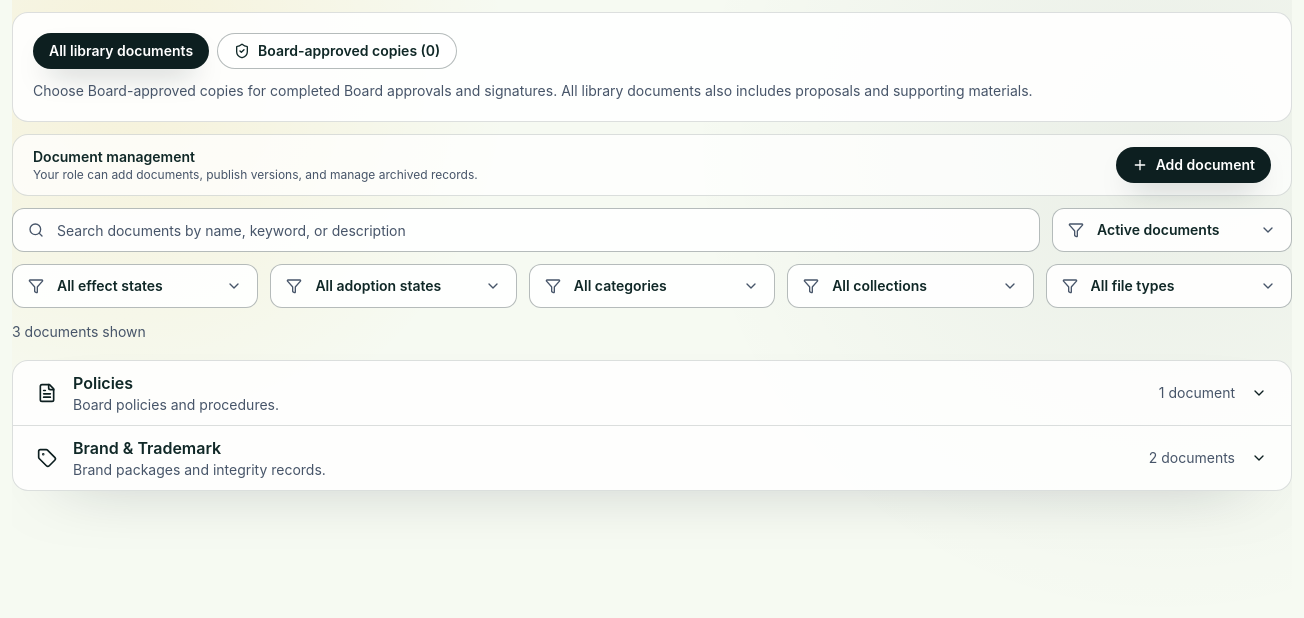
Test: DocumentLibrary › defaults to active records and lets managers select all or archived documents
Expected: the text "3 documents shown" is shown, top-left (12, 322), bottom-right (146, 342)
Select "All documents" in the 1st dropdown named "Filter by document status" at (1172, 230), box top-left (1052, 208), bottom-right (1292, 252)
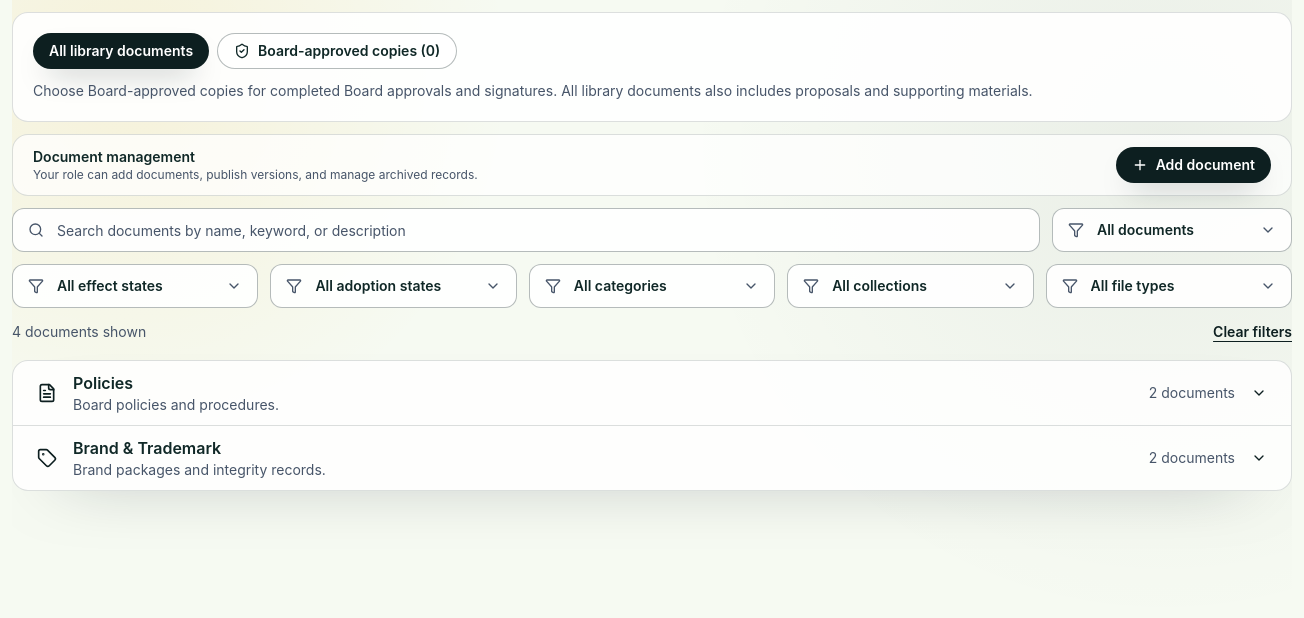
Now the text "4 documents shown" is shown, box top-left (12, 322), bottom-right (146, 342)
Select "Policies" in the 4th dropdown named "Filter by category" at (652, 286), box top-left (529, 264), bottom-right (775, 308)
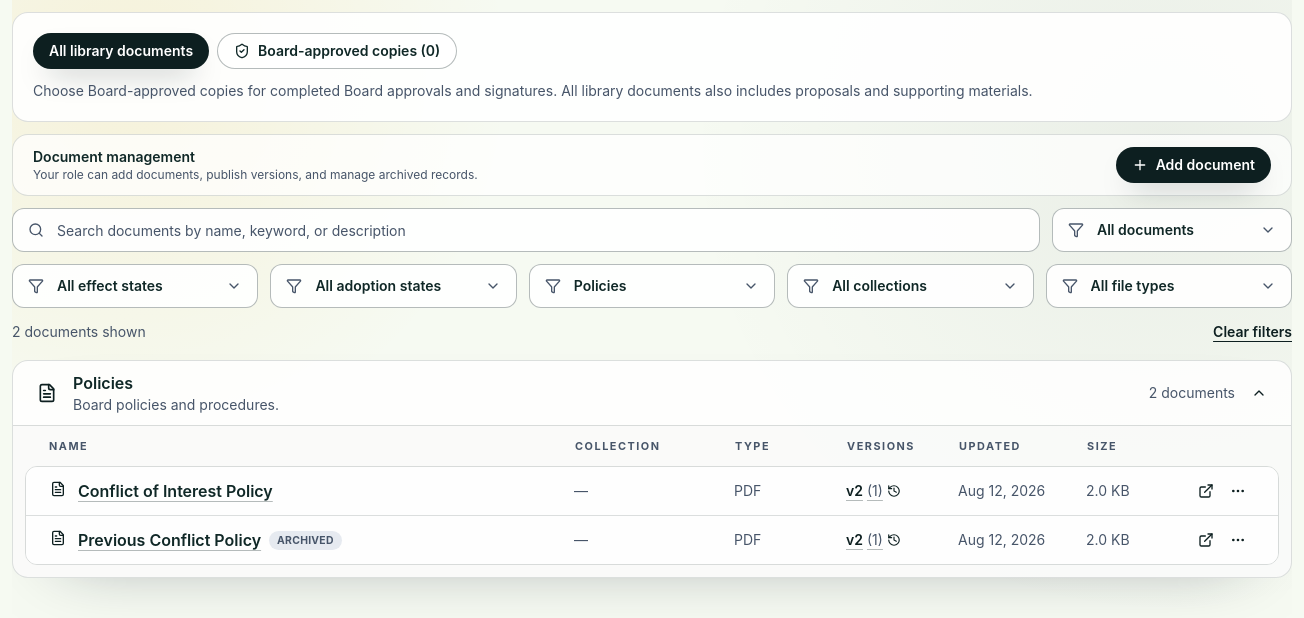
Now the link "Conflict of Interest Policy" is shown, box top-left (78, 479), bottom-right (273, 503)
Now the link "Previous Conflict Policy" is shown, box top-left (78, 528), bottom-right (261, 552)
Now the text "Archived" is shown, box top-left (269, 530), bottom-right (342, 550)
Select "Archived documents" in the 1st dropdown named "Filter by document status" at (1172, 230), box top-left (1052, 208), bottom-right (1292, 252)
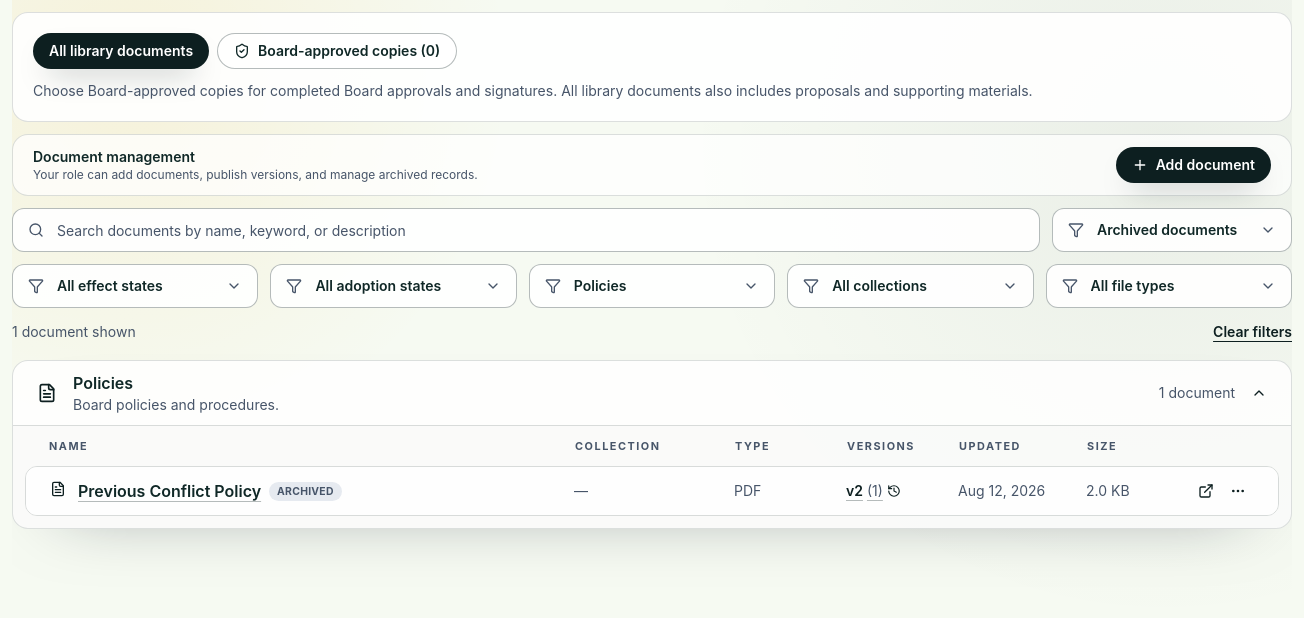
Now the link "Previous Conflict Policy" is shown, box top-left (78, 479), bottom-right (261, 503)
Now the text "1 document shown" is shown, box top-left (12, 322), bottom-right (136, 342)
Now the link "Conflict of Interest Policy" is gone
